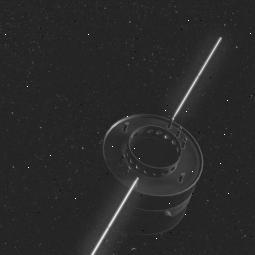double_start: (85, 88, 214, 246)
